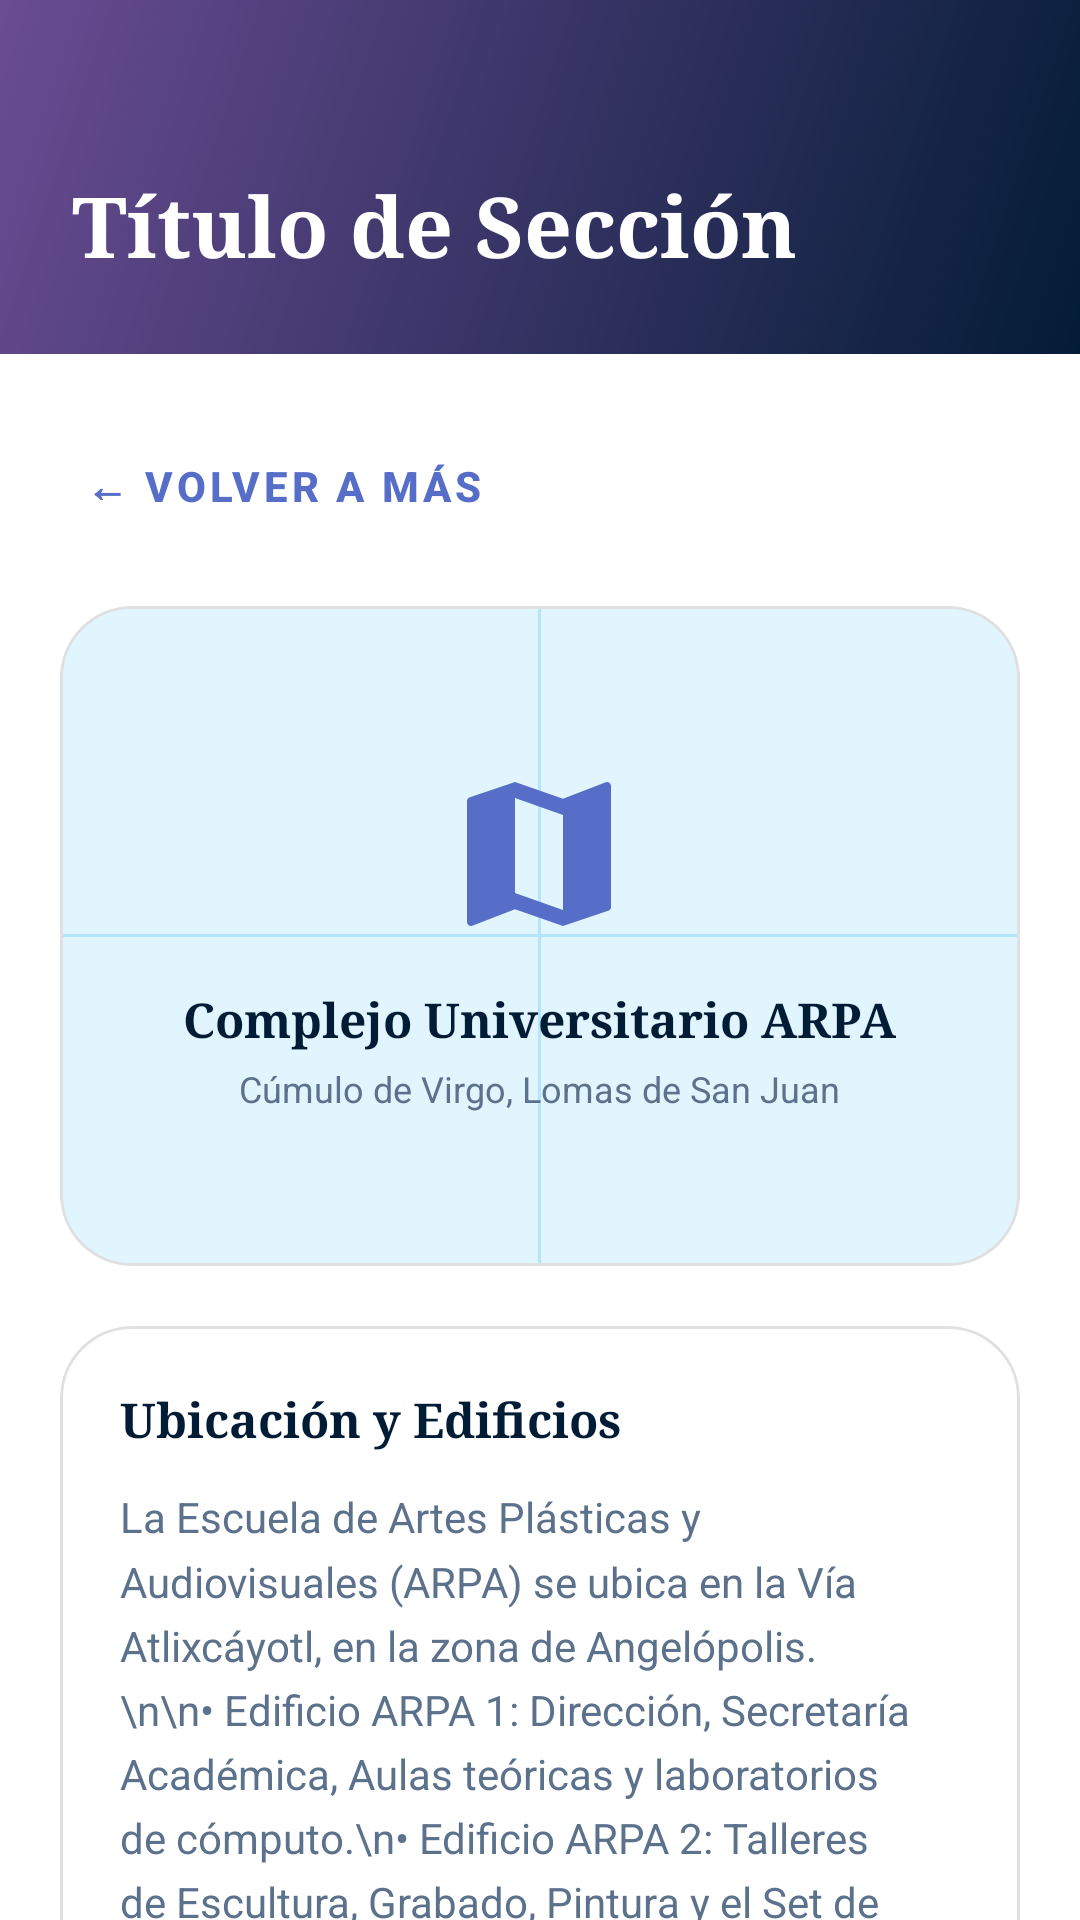

Locate icon controls on the screen. Image size 1080*1920, boxes as {"x1": x1, "y1": y1, "x2": x2, "y2": y2}.
map: {"x1": 443, "y1": 758, "x2": 635, "y2": 950}
